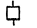Cable Termination Box: (6, 6, 21, 20)
